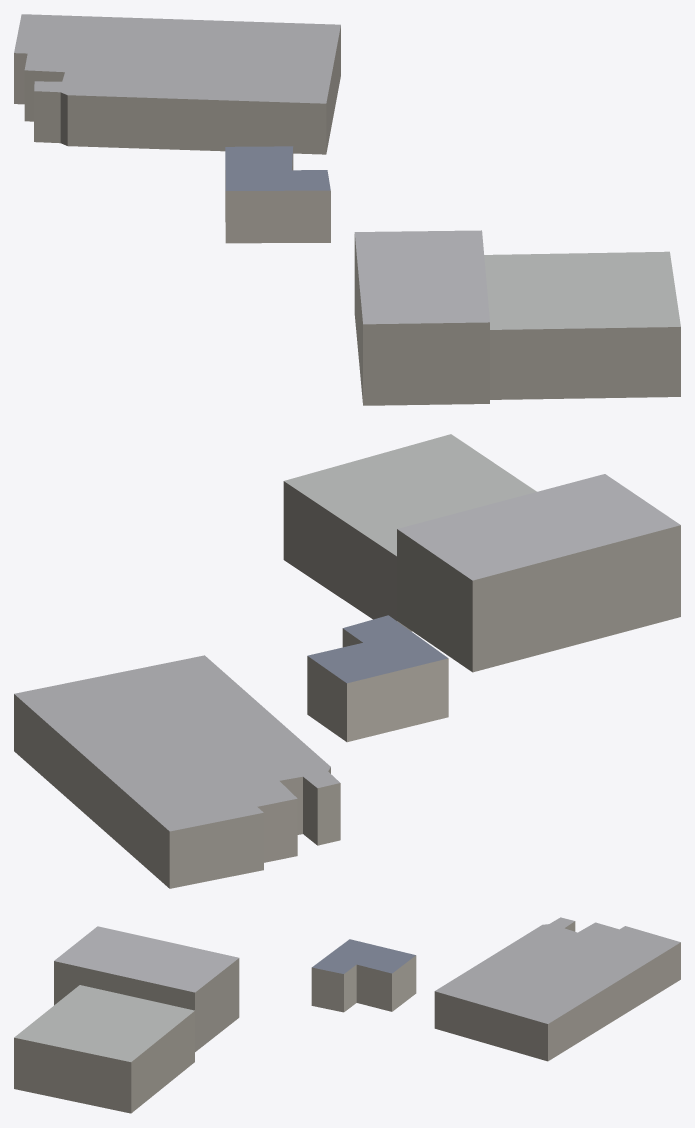
The picture shows the model from 3 angles, top to bottom: view 1: azimuth 30°, elevation 25°; view 2: azimuth 150°, elevation 25°; view 3: azimuth 270°, elevation 25°; orthographic projection. The views are drawn at different scales.
Visible parts, largest first — view 1: tuile; view 2: tuile; view 3: tuile.
Part boxes in pixels (<box>): tuile: <box>14,14,680,405</box>; tuile: <box>14,434,680,888</box>; tuile: <box>14,917,680,1113</box>.
Size of the model in its own units: 45.89 by 12.79 by 105.
